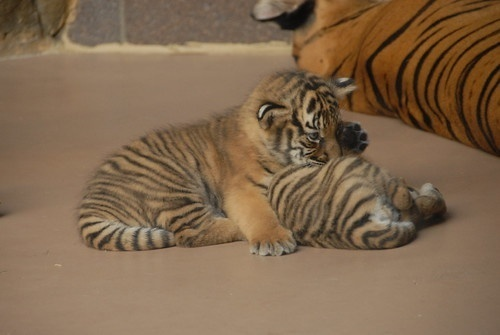tigre: (78, 69, 353, 253), (284, 1, 499, 158)
